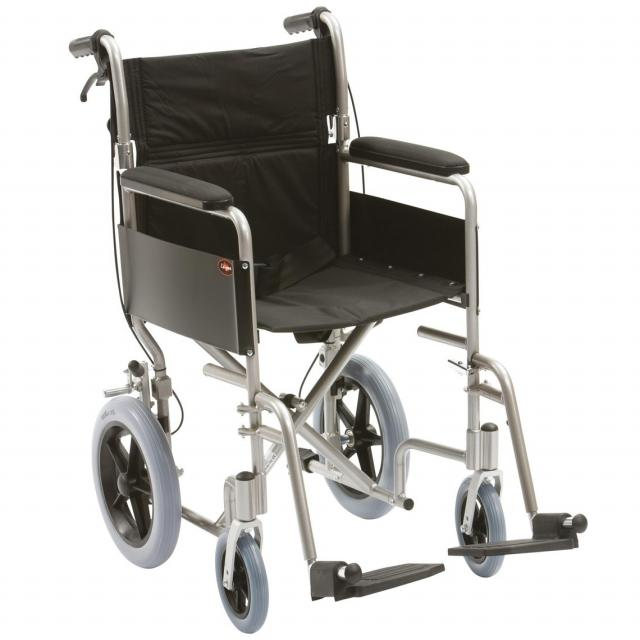wheelchair: (55, 0, 593, 640)
